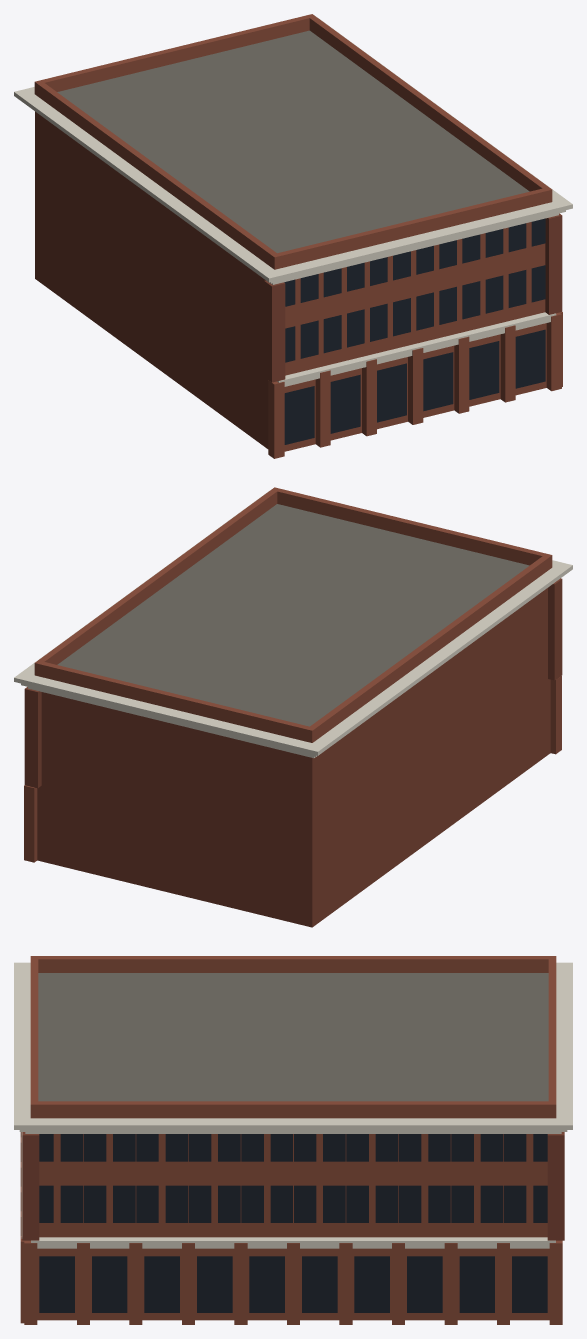
Rendered from terminal-hotel.glb.
3 views of the same model, one above another, from view 1: azimuth 30°, elevation 25°; view 2: azimuth 150°, elevation 25°; view 3: azimuth 270°, elevation 25° (orthographic). The views are drawn at different scales.
Visible parts, largest first — view 1: terminal_roof, terminal_brick2, terminal_brick, terminal_glass, terminal_stone; view 2: terminal_brick2, terminal_roof, terminal_brick, terminal_stone; view 3: terminal_brick, terminal_roof, terminal_glass, terminal_stone, terminal_brick2.
Boxes of the visible parts, x1,y1,x2,y2 form: terminal_roof: (57, 30, 529, 253); terminal_brick2: (35, 111, 562, 448); terminal_brick: (34, 14, 562, 458); terminal_glass: (284, 218, 545, 444); terminal_stone: (14, 18, 572, 386); terminal_brick2: (24, 578, 562, 927); terminal_roof: (57, 504, 529, 726); terminal_brick: (24, 487, 561, 862); terminal_stone: (14, 491, 572, 758); terminal_brick: (20, 956, 562, 1324); terminal_roof: (38, 973, 548, 1101); terminal_glass: (39, 1134, 547, 1312); terminal_stone: (14, 962, 572, 1248); terminal_brick2: (22, 1132, 564, 1240).
Bounding box in the file's own units: 20.5 × 12.7 × 29.8.
